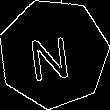N_N: (31, 26, 77, 81)
